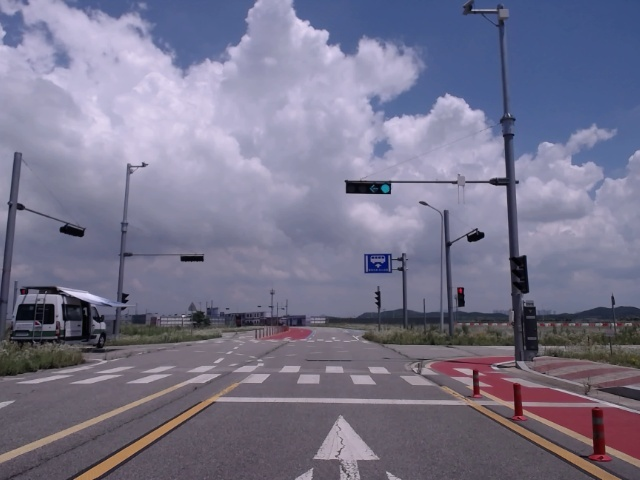all_green_4: (345, 181, 399, 202), (344, 180, 392, 194)
